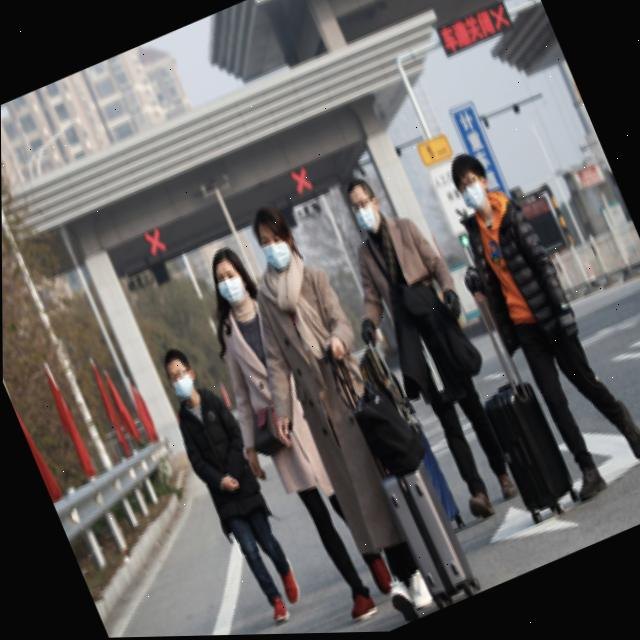Mask: (256, 237, 298, 279), (213, 270, 253, 310), (458, 183, 493, 215), (166, 373, 196, 402), (355, 207, 383, 236)
